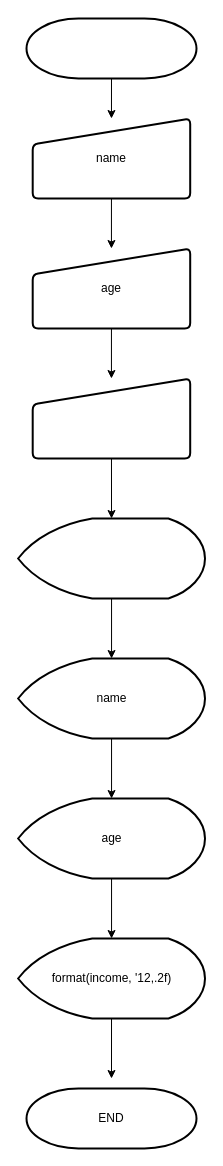
The diagram is 223 pixels wide and 1166 high, and some of its shapes have lost their labels. Here are the shapes that lost their labels. From the top down, the centre of each, then its label:
At (111,48): "START".
At (111,418): "income".
At (111,558): "Here is the data you entered".
